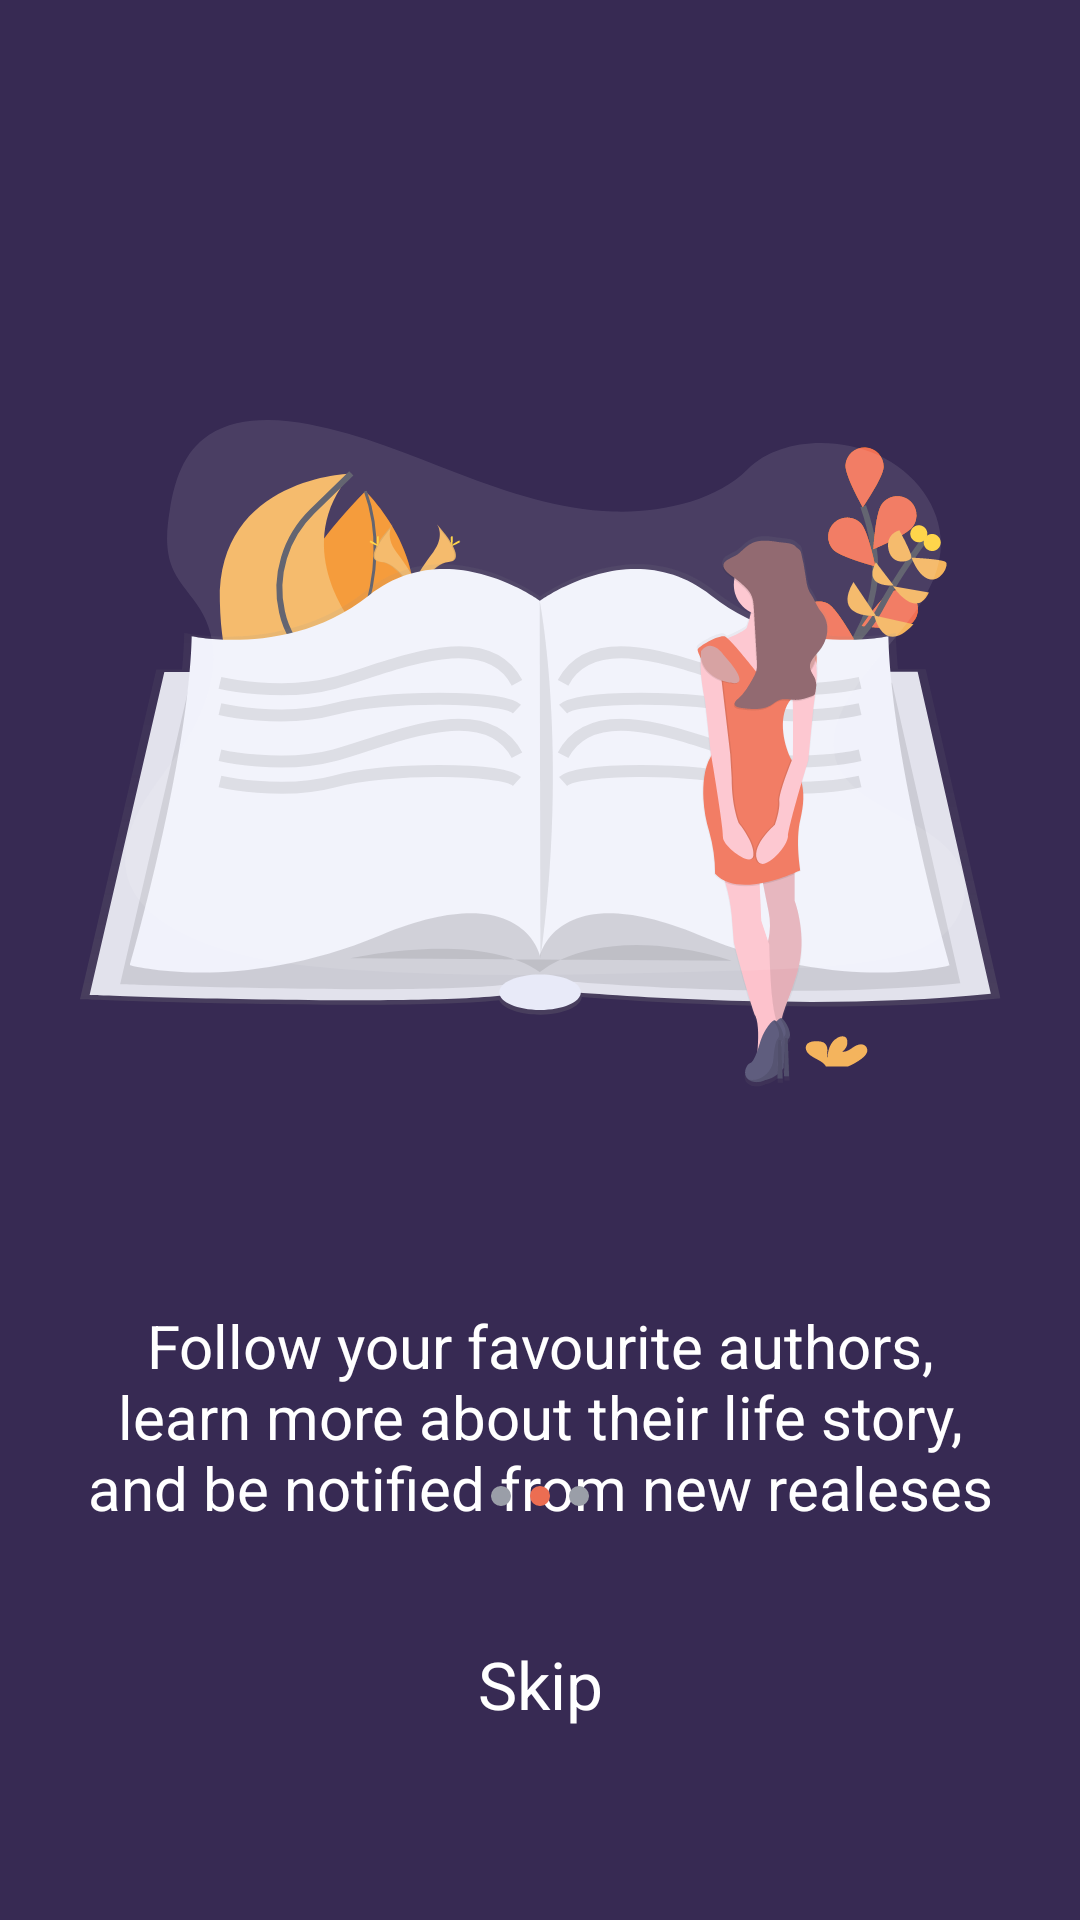

Where icons sit on this 1080x1920 app screen, as (x1, y1, x2, y2):
choosen: (528, 1484, 552, 1508)
not choosen: (491, 1484, 513, 1508), (567, 1484, 589, 1508)
